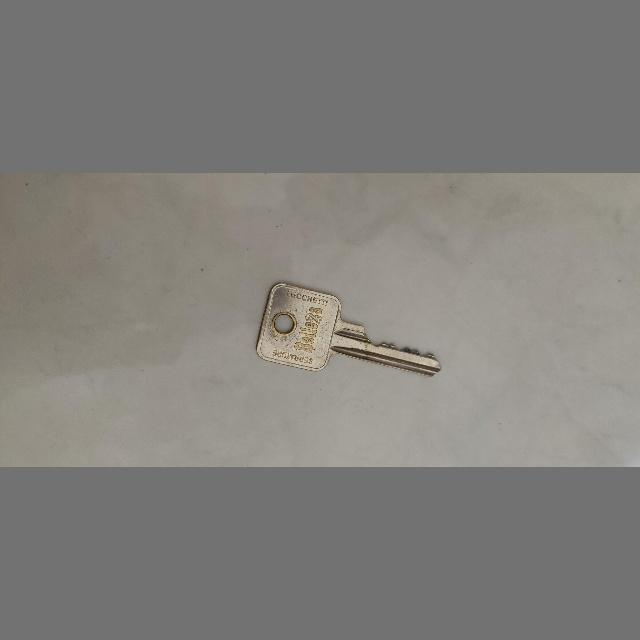Keys: (250, 275, 446, 387)
